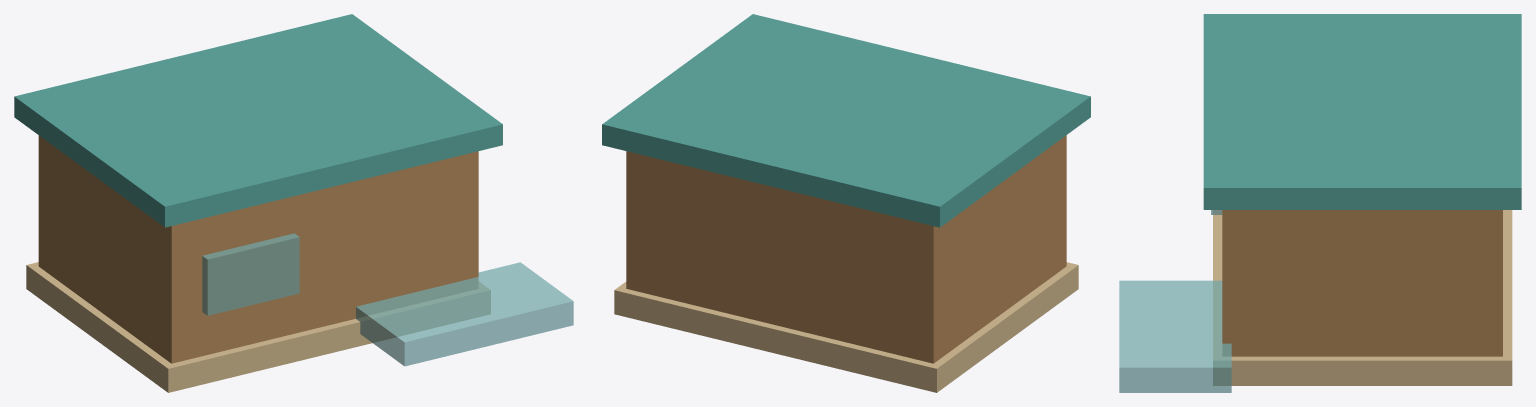
File: shipping-office.source.glb
3 renders of one model, left to right at view 1: azimuth 30°, elevation 25°; view 2: azimuth 150°, elevation 25°; view 3: azimuth 270°, elevation 25°, orthographic. The views are drawn at different scales.
Parts seen in each view (by area): view 1: shipping-office-roof-mesh, shipping-office-office-mesh, shipping-office-base-mesh, shipping-office-platform-mesh, shipping-office-dispatch-window-mesh; view 2: shipping-office-roof-mesh, shipping-office-office-mesh, shipping-office-base-mesh; view 3: shipping-office-roof-mesh, shipping-office-office-mesh, shipping-office-platform-mesh, shipping-office-base-mesh.
Boxes of the visible parts, <box> form: shipping-office-roof-mesh: <box>14,14,502,227</box>; shipping-office-office-mesh: <box>38,135,478,363</box>; shipping-office-base-mesh: <box>26,262,490,392</box>; shipping-office-platform-mesh: <box>356,262,573,366</box>; shipping-office-dispatch-window-mesh: <box>202,233,299,315</box>; shipping-office-roof-mesh: <box>602,14,1090,227</box>; shipping-office-office-mesh: <box>626,135,1066,363</box>; shipping-office-base-mesh: <box>614,262,1078,392</box>; shipping-office-roof-mesh: <box>1203,14,1521,209</box>; shipping-office-office-mesh: <box>1222,210,1502,356</box>; shipping-office-platform-mesh: <box>1119,280,1231,392</box>; shipping-office-base-mesh: <box>1213,210,1512,385</box>.
Size of the model in its own units: 4.8 by 2.38 by 4.3.
